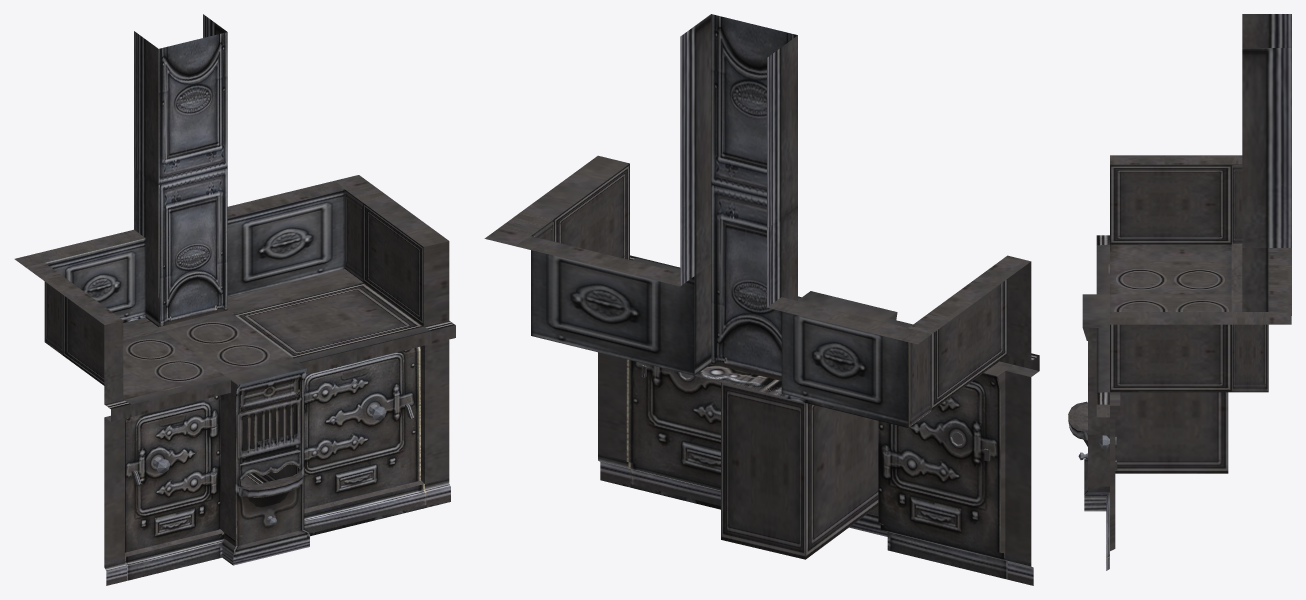
The model's file is Stove.fbx.
The picture shows the model from 3 angles, left to right: view 1: azimuth 30°, elevation 25°; view 2: azimuth 150°, elevation 25°; view 3: azimuth 270°, elevation 25°; orthographic projection. The views are drawn at different scales.
Visible parts, largest first — view 1: Stove_LOD0; view 2: Stove_LOD0; view 3: Stove_LOD0.
Boxes of the visible parts, box(x1,y1,x2,y2) form: Stove_LOD0: box(14, 14, 455, 585); Stove_LOD0: box(484, 14, 1039, 585); Stove_LOD0: box(1068, 14, 1291, 570).
Size of what is drawn, in the model's own units: 288 by 366 by 161.
